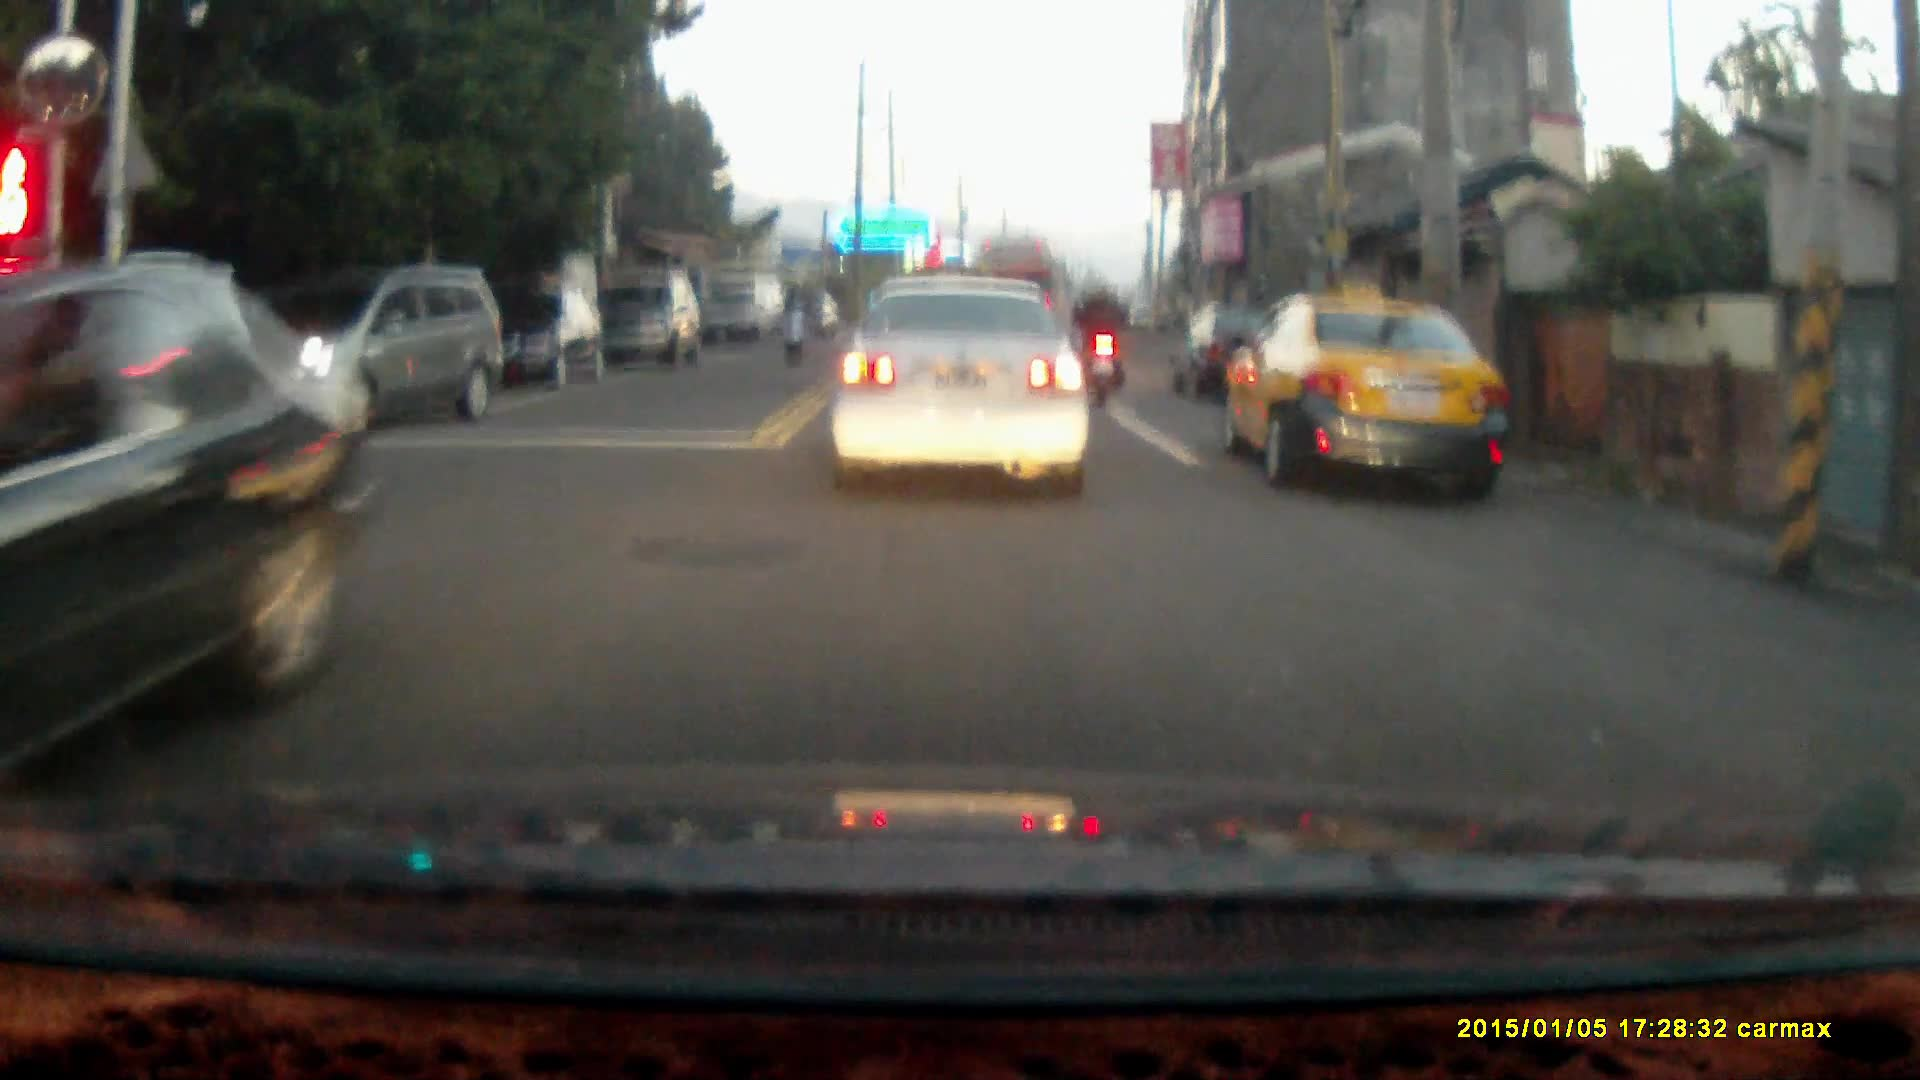rider: (1070, 274, 1129, 407), (777, 276, 812, 362)
vehicle: (1, 274, 369, 795), (1227, 296, 1512, 506), (827, 285, 1103, 500), (472, 283, 605, 386), (595, 275, 700, 371), (708, 278, 789, 350)
